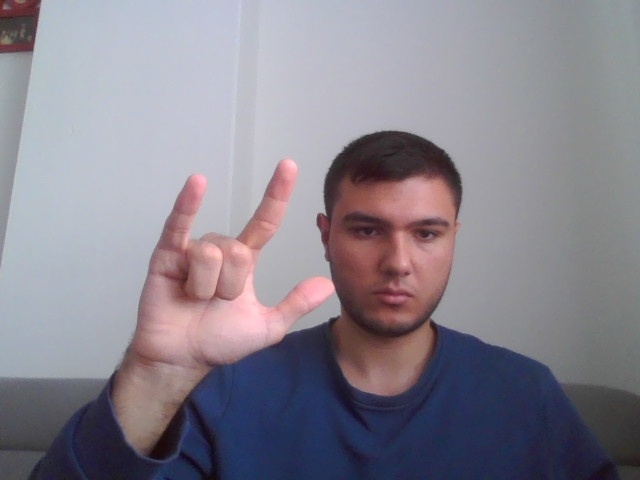ı love you: (122, 156, 335, 369)
